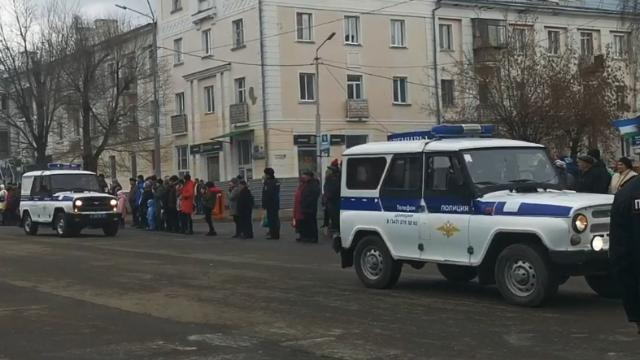police car: (342, 126, 616, 308), (21, 164, 121, 236)
